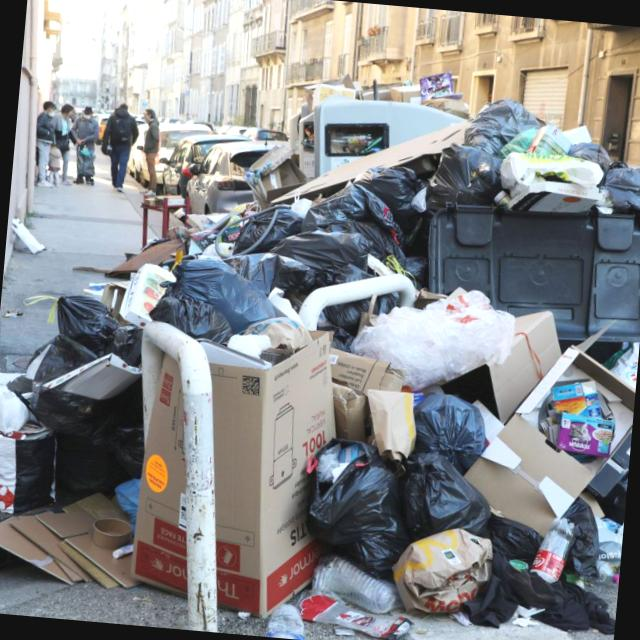garbage: (41, 130, 640, 640)
